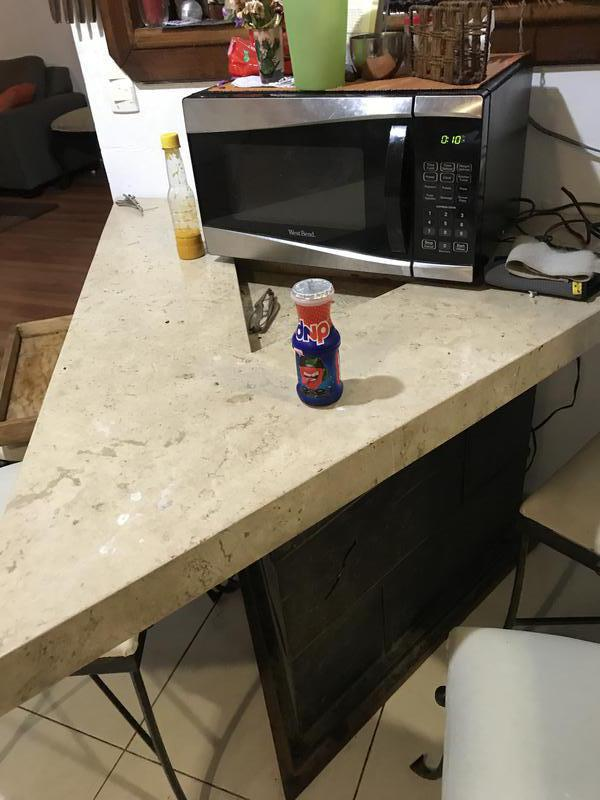danup: (287, 279, 347, 408)
